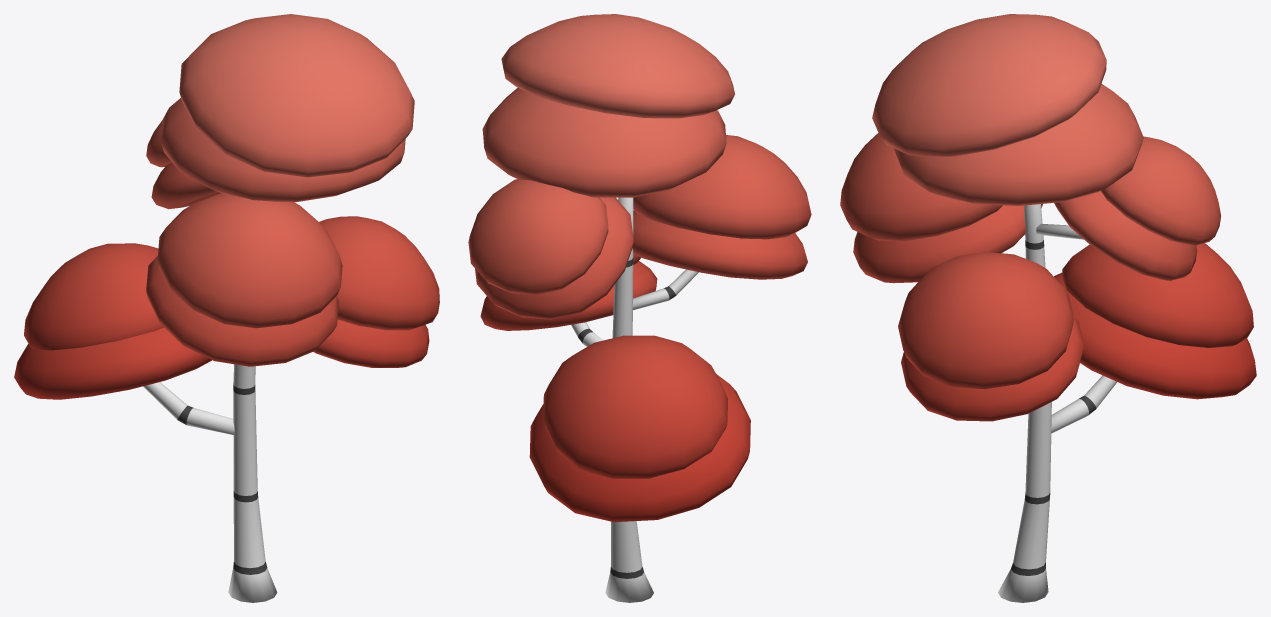
Rendered from Tree07.fbx.
3 views of the same model, side by side, from view 1: azimuth 30°, elevation 25°; view 2: azimuth 150°, elevation 25°; view 3: azimuth 270°, elevation 25° (orthographic). The views are drawn at different scales.
Parts seen in each view (by area): view 1: Tree06Dl_LOD0, Tree06D_LOD0; view 2: Tree06Dl_LOD0, Tree06D_LOD0; view 3: Tree06Dl_LOD0, Tree06D_LOD0.
Boxes of the visible parts, x1,y1,x2,y2 form: Tree06Dl_LOD0: (14, 14, 439, 399); Tree06D_LOD0: (143, 364, 277, 602); Tree06Dl_LOD0: (468, 14, 811, 522); Tree06D_LOD0: (571, 197, 698, 602); Tree06Dl_LOD0: (840, 14, 1256, 421); Tree06D_LOD0: (998, 204, 1117, 602).
Size of what is drawn, in the model's own units: 6.21 by 6.67 by 10.18.
